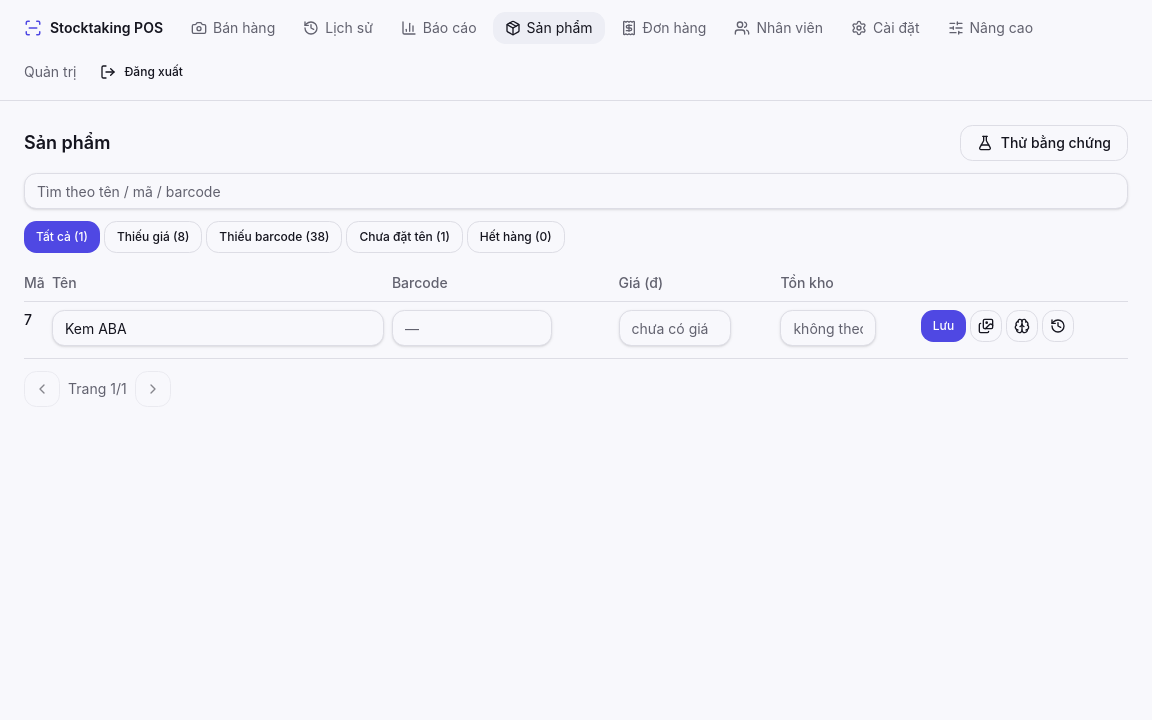
it: admin products › saves evidence only once confirmed: the colour reference first, then the evidence
Click the button named "Bằng chứng 7".
click(1022, 326)  # box [1006,310,1038,342]
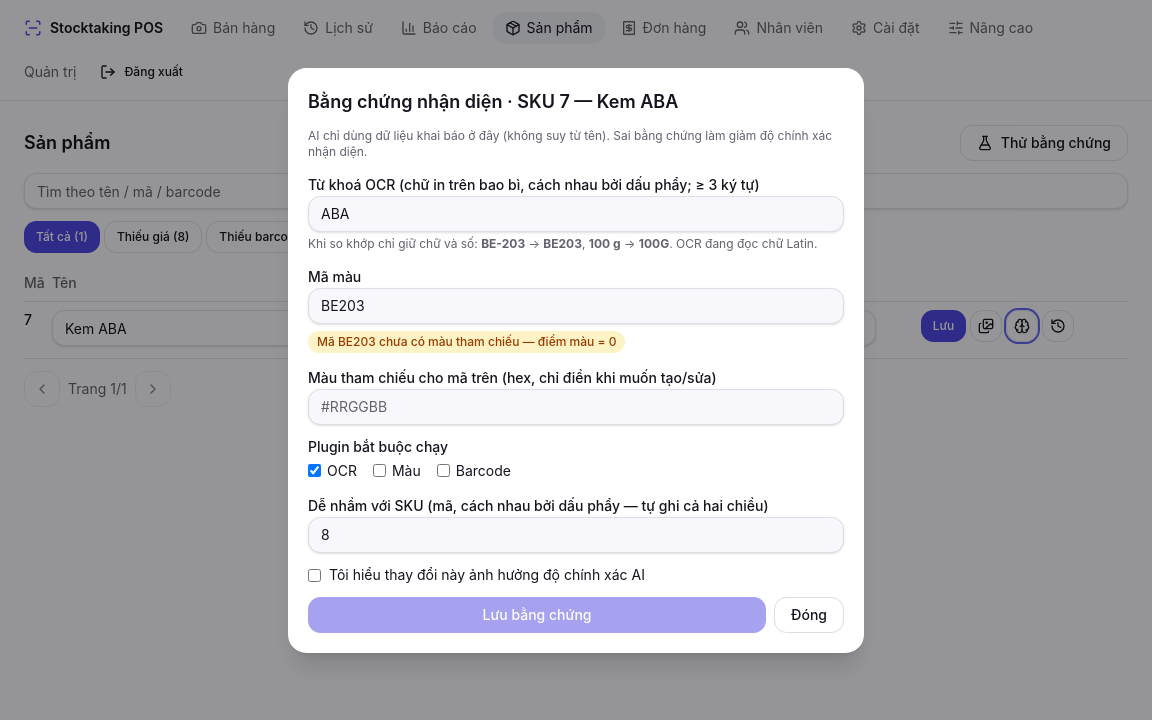
Now the text "Mã BE203 chưa có màu tham chiếu — điểm màu = 0" is shown, box [308,330,625,352]
Now the field labelled "Từ khoá OCR" holds "ABA"
Now the button "Lưu bằng chứng" is disabled, box [308,596,766,632]
Type ", kt42" into the field labelled "Từ khoá OCR".
click(576, 214); type(", kt42")  # box [308,196,844,232]
Type "#6d3f3e" into the field labelled "Màu tham chiếu cho mã trên (hex, chỉ điền khi muốn tạo/sửa)".
click(576, 406); type("#6d3f3e")  # box [308,388,844,424]
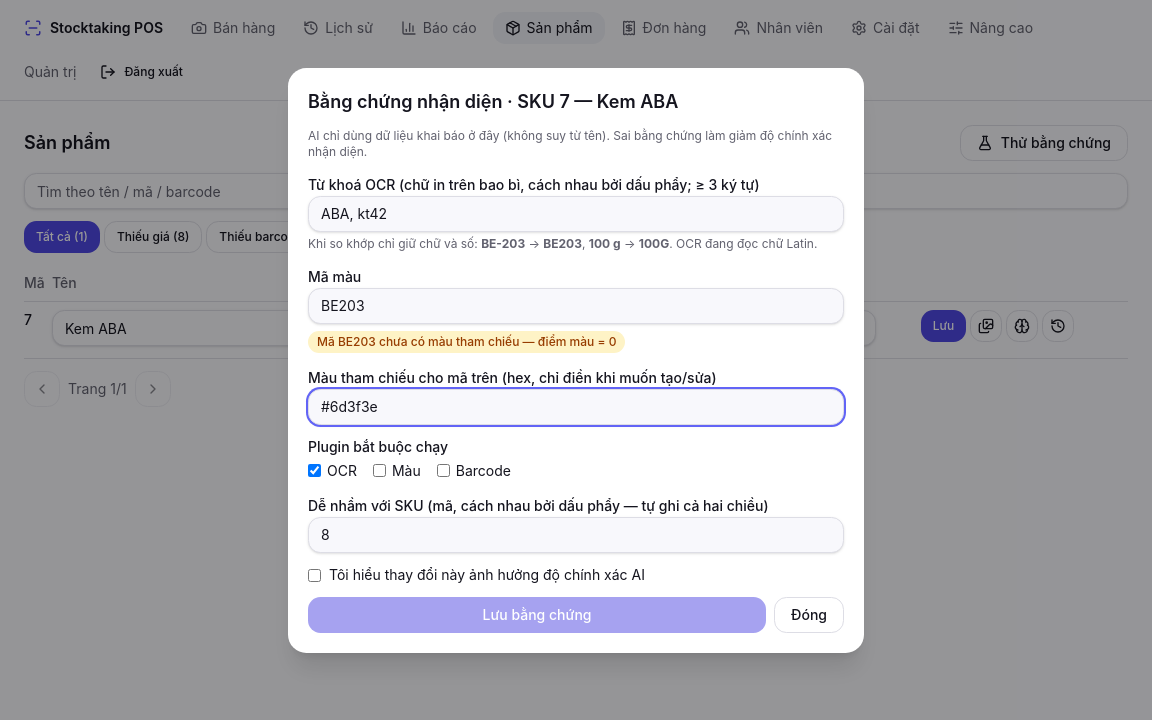
Click the checkbox labelled "Màu".
click(380, 470)  # box [373,464,386,477]
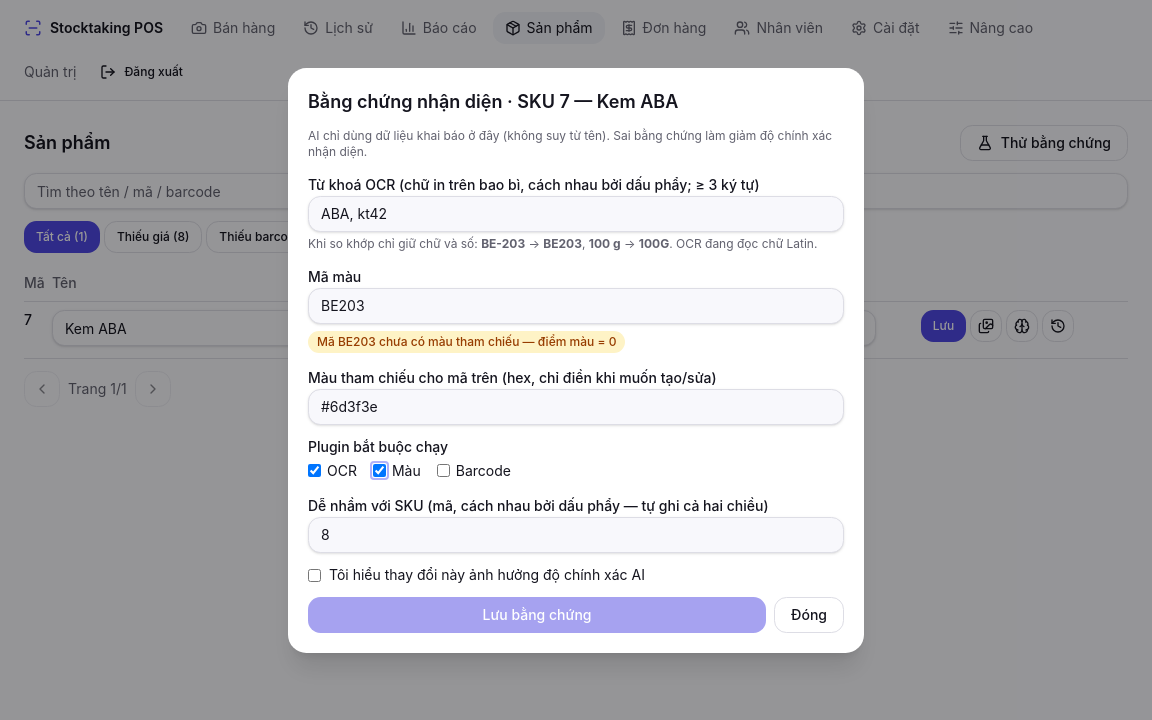
Clear the field labelled "Dễ nhầm với SKU" at (576, 534), box [308,516,844,552]
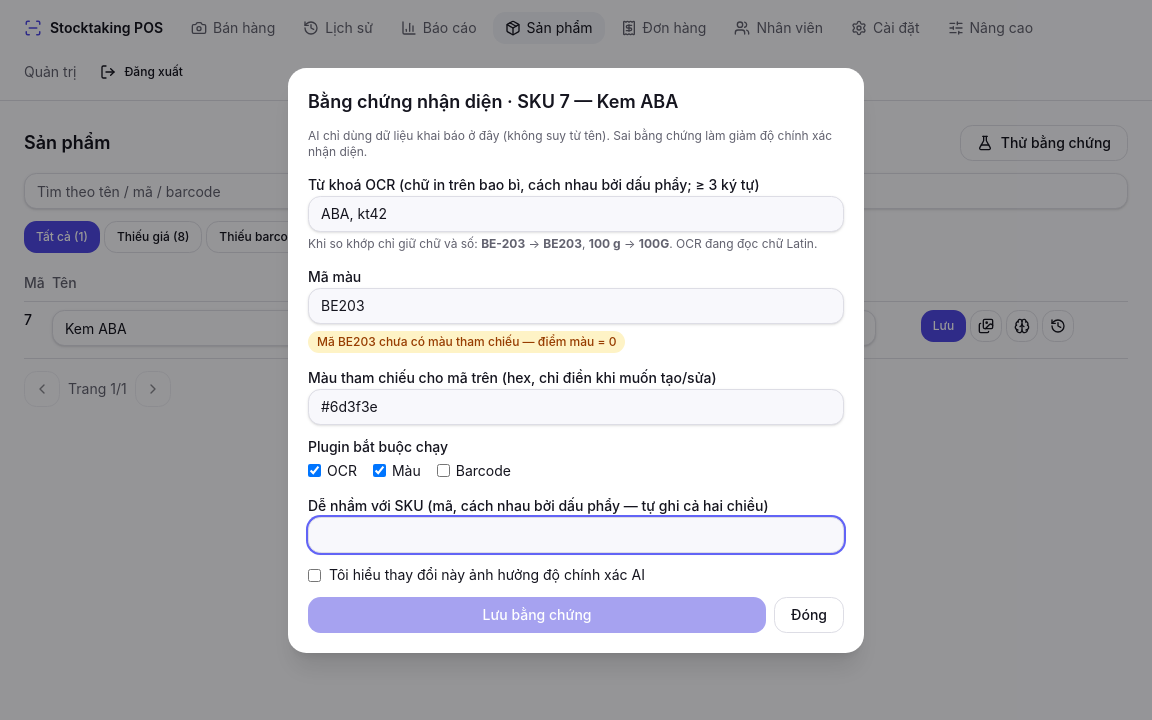
Click the checkbox labelled "Tôi hiểu thay đổi này ảnh hưởng độ chính xác AI".
click(314, 575)  # box [308,568,321,582]
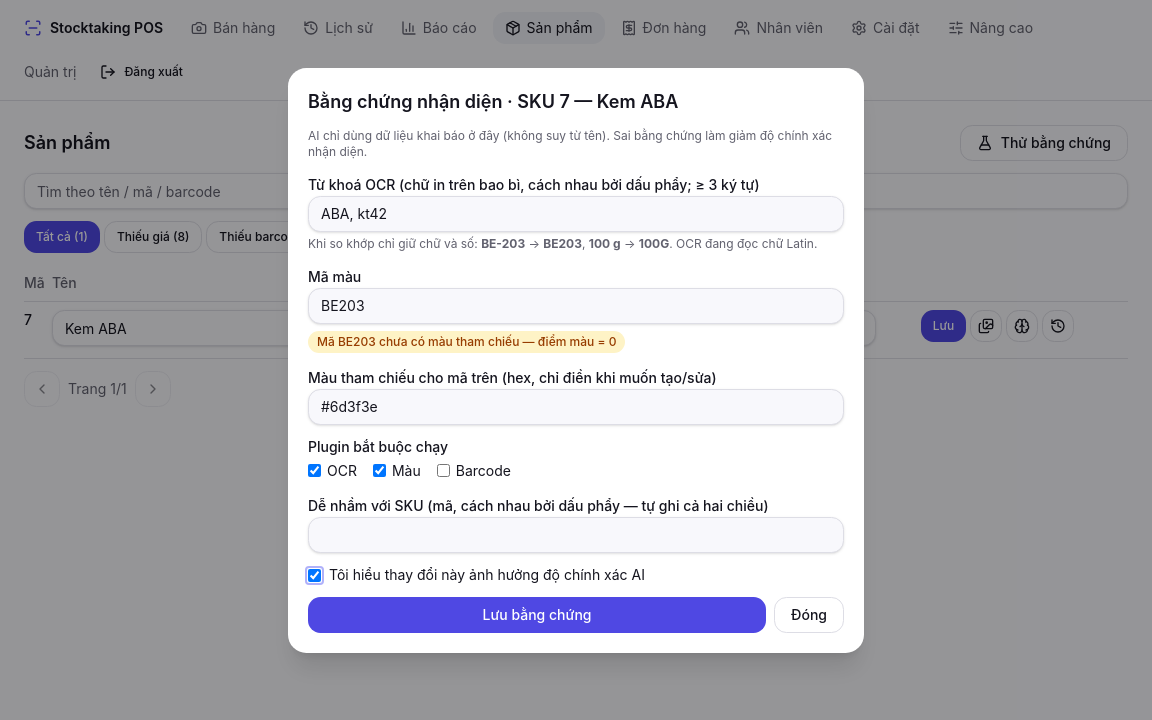
Click the button "Lưu bằng chứng".
click(537, 614)  # box [308,596,766,632]
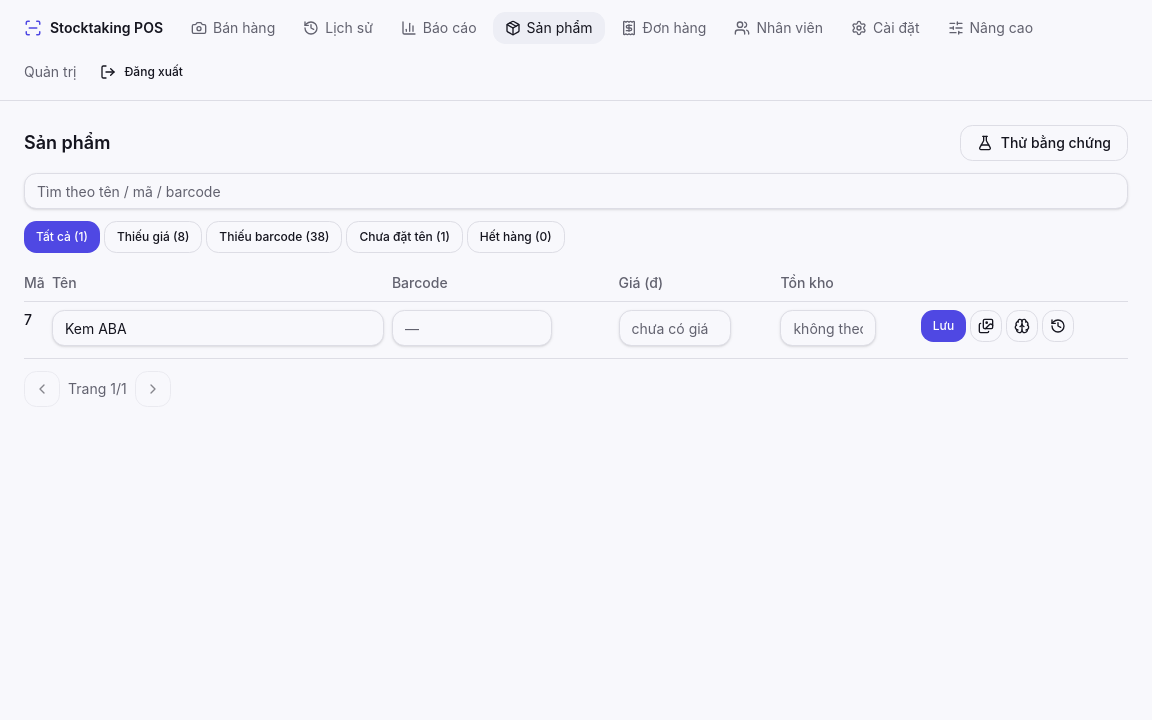
Now the dialog is gone
